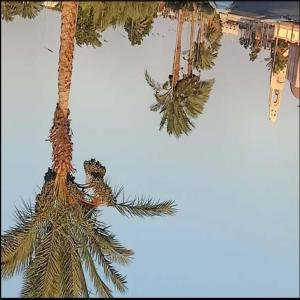palm tree: (0, 2, 178, 297), (144, 1, 222, 138)
